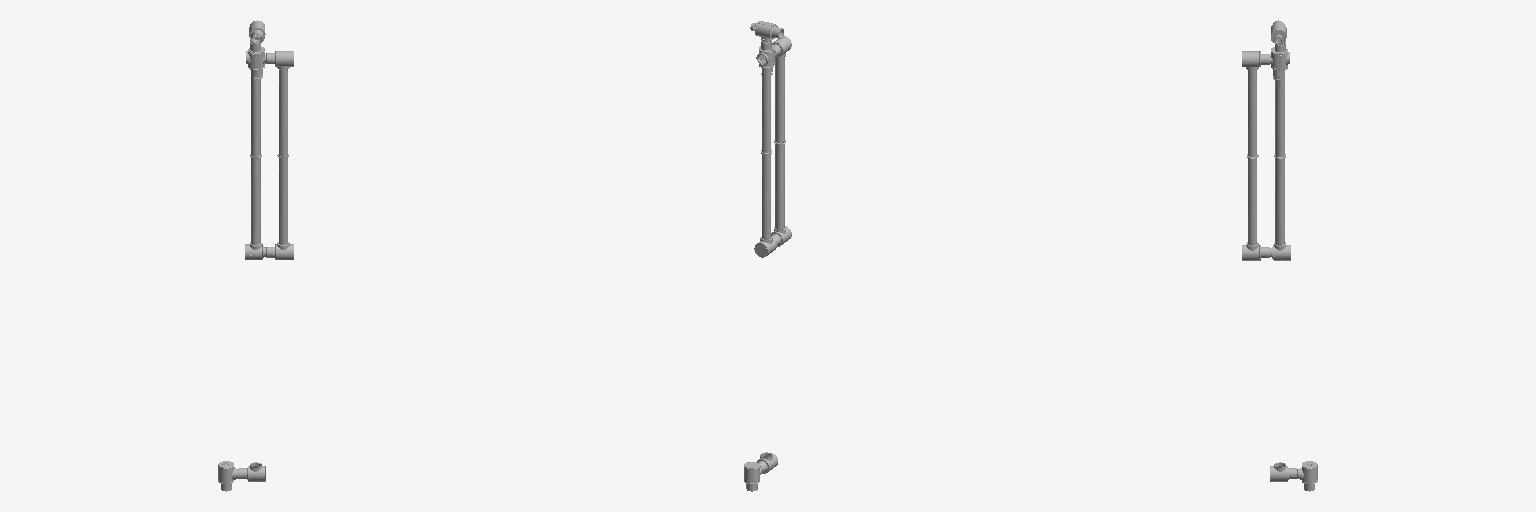
URDF robot description (urdf0):
<?xml version="1.0" encoding="utf-8"?>
<!-- This URDF was automatically created by SolidWorks to URDF Exporter! Originally created by Stephen Brawner ([email redacted]) 
     Commit Version: 1.6.0-4-g7f85cfe  Build Version: 1.6.7995.38578
     For more information, please see http://wiki.ros.org/sw_urdf_exporter -->
<robot
  name="urdf0">
  <link
    name="base_link">
    <!-- <inertial>
      <origin
        xyz="8.72986299132619E-06 0.000110535562543035 0.0443842390944278"
        rpy="0 0 0" />
      <mass
        value="5.02870680905452" />
      <inertia
        ixx="0.0167806415192983"
        ixy="2.58690759696259E-06"
        ixz="-9.70880165009334E-07"
        iyy="0.0168131920532754"
        iyz="-1.22930663997648E-05"
        izz="0.0284237575746704" />
    </inertial> -->
    <visual>
      <origin
        xyz="0 0 0"
        rpy="0 0 0" />
      <geometry>
        <mesh
          filename="package://urdf0/meshes/base_link.STL" />
      </geometry>
      <material
        name="">
        <color
          rgba="0.752941176470588 0.752941176470588 0.752941176470588 1" />
      </material>
    </visual>
    <collision>
      <origin
        xyz="0 0 0"
        rpy="0 0 0" />
      <geometry>
        <mesh
          filename="package://urdf0/meshes/base_link.STL" />
      </geometry>
    </collision>
  </link>
  <link
    name="link_1">
    <inertial>
      <origin
        xyz="-2.04097438563936E-05 0.011301551101616 0.0655223391033291"
        rpy="0 0 0" />
      <mass
        value="55.7444455513422" />
      <inertia
        ixx="0.727810823126991"
        ixy="-6.08303990712885E-06"
        ixz="-2.12903061832592E-07"
        iyy="0.927554282928872"
        iyz="0.0220552256243774"
        izz="1.04521065780087" />
    </inertial>
    <visual>
      <origin
        xyz="0 0 0"
        rpy="0 0 0" />
      <geometry>
        <mesh
          filename="package://urdf0/meshes/Link1.STL" />
      </geometry>
      <material
        name="">
        <color
          rgba="0.752941176470588 0.752941176470588 0.752941176470588 1" />
      </material>
    </visual>
    <collision>
      <origin
        xyz="0 0 0"
        rpy="0 0 0" />
      <geometry>
        <mesh
          filename="package://urdf0/meshes/Link1.STL" />
      </geometry>
    </collision>
  </link>
  <joint
    name="joint1"
    type="continuous">
    <origin
      xyz="0 0 0.3645"
      rpy="3.1416 0 0" />
    <parent
      link="base_link" />
    <child
      link="link_1" />
    <axis
      xyz="0 0 1" />
    <hardware id="0" type="driver">
            <limit lower="-0.0001" upper="0.0001"  vel="3.0" acc="10.0" jerk="150.0" effort="30.0"/>
            <transform ratio="1.0" offset_pos_cnt="0" cnt_per_unit="140184287.42160" torque_per_unit="1.0"
                       user_unit_name="rad"/>
             <inputs name="Inputs">
                <status_word>Statusword</status_word>
                <position_actual_value>Position actual value</position_actual_value>
                <velocity_actual_value>Velocity actual value</velocity_actual_value>
                <torque_actual_value>Torque actual value</torque_actual_value>
                <load_torque_value>Analog Input 1</load_torque_value>
                <secondary_position_value>Auxiliary position actual value</secondary_position_value>
                <secondary_velocity_value>Secondary velocity value</secondary_velocity_value>
            </inputs>
            <outputs name="Outputs">
                <control_word>Controlword</control_word>
                <mode_of_operation>Modes of operation</mode_of_operation>
                <target_position>Target position</target_position>
                <target_velocity>Target velocity</target_velocity>
                <target_torque>Target torque</target_torque>
            </outputs>        
        </hardware>
  </joint>
  <link
    name="link_2">
    <inertial>
      <origin
        xyz="1.2631017255465E-05 -0.00998695022675111 0.099695434986445"
        rpy="0 0 0" />
      <mass
        value="63.0188095750657" />
      <inertia
        ixx="0.765163850790187"
        ixy="4.97111083556097E-06"
        ixz="5.24185415367775E-06"
        iyy="0.964838451945914"
        iyz="-0.0220552256243779"
        izz="1.11446804310499" />
    </inertial>
    <visual>
      <origin
        xyz="0 0 0"
        rpy="0 0 0" />
      <geometry>
        <mesh
          filename="package://urdf0/meshes/Link2.STL" />
      </geometry>
      <material
        name="">
        <color
          rgba="0.752941176470588 0.752941176470588 0.752941176470588 1" />
      </material>
    </visual>
    <collision>
      <origin
        xyz="0 0 0"
        rpy="0 0 0" />
      <geometry>
        <mesh
          filename="package://urdf0/meshes/Link2.STL" />
      </geometry>
    </collision>
  </link>
  <joint
    name="joint2"
    type="continuous">
    <origin
      xyz="0 0.6115 0"
      rpy="1.5708 0 0" />
    <parent
      link="link_1" />
    <child
      link="link_2" />
    <axis
      xyz="0 0 1" />
    <hardware id="1" type="driver">
            <limit lower="-2.22" upper="2.22" vel="3.0" acc="10.0" jerk="150.0" effort="30.0" />
            <transform ratio="1.0" offset_pos_cnt="0" cnt_per_unit="140184287.42160" torque_per_unit="1.0" user_unit_name="rad"/>
            <inputs name="Inputs">
                <status_word>Statusword</status_word>
                <position_actual_value>Position actual value</position_actual_value>
                <velocity_actual_value>Velocity actual value</velocity_actual_value>
                <torque_actual_value>Torque actual value</torque_actual_value>
                <load_torque_value>Analog Input 1</load_torque_value>
                <secondary_position_value>Auxiliary position actual value</secondary_position_value>
                <secondary_velocity_value>Secondary velocity value</secondary_velocity_value>
            </inputs>
            <outputs name="Outputs">
                <control_word>Controlword</control_word>
                <mode_of_operation>Modes of operation</mode_of_operation>
                <target_position>Target position</target_position>
                <target_velocity>Target velocity</target_velocity>
                <target_torque>Target torque</target_torque>
            </outputs>  
        </hardware>
  </joint>
  <link
    name="link_3">
    <inertial>
      <origin
        xyz="7.95950088592247E-05 -0.00352653187066096 -2.49589544552404"
        rpy="0 0 0" />
      <mass
        value="212.870919787655" />
      <inertia
        ixx="27.5783375000673"
        ixy="0.00110729799537331"
        ixz="0.000240364566676525"
        iyy="28.0743279332976"
        iyz="9.78461217462477E-05"
        izz="2.97692676274956" />
    </inertial>
    <visual>
      <origin
        xyz="0 0 0"
        rpy="0 0 0" />
      <geometry>
        <mesh
          filename="package://urdf0/meshes/Link3.STL" />
      </geometry>
      <material
        name="">
        <color
          rgba="0.752941176470588 0.752941176470588 0.752941176470588 1" />
      </material>
    </visual>
    <collision>
      <origin
        xyz="0 0 0"
        rpy="0 0 0" />
      <geometry>
        <mesh
          filename="package://urdf0/meshes/Link3.STL" />
      </geometry>
    </collision>
  </link>
  <joint
    name="joint3"
    type="continuous">
    <origin
      xyz="0 -5.0815 0"
      rpy="1.5708 0 0" />
    <parent
      link="link_2" />
    <child
      link="link_3" />
    <axis
      xyz="0 0 -1" />
    <hardware id="2" type="driver">
            <limit lower="-0.0001" upper="0.0001" vel="3.0" acc="10.0" jerk="150.0" effort="30.0" />
            <transform ratio="1.0" offset_pos_cnt="0" cnt_per_unit="140184287.42160" torque_per_unit="1.0" user_unit_name="rad"/>
            <inputs name="Inputs">
                <status_word>Statusword</status_word>
                <position_actual_value>Position actual value</position_actual_value>
                <velocity_actual_value>Velocity actual value</velocity_actual_value>
                <torque_actual_value>Torque actual value</torque_actual_value>
                <load_torque_value>Analog Input 1</load_torque_value>
                <secondary_position_value>Auxiliary position actual value</secondary_position_value>
                <secondary_velocity_value>Secondary velocity value</secondary_velocity_value>
            </inputs>
            <outputs name="Outputs">
                <control_word>Controlword</control_word>
                <mode_of_operation>Modes of operation</mode_of_operation>
                <target_position>Target position</target_position>
                <target_velocity>Target velocity</target_velocity>
                <target_torque>Target torque</target_torque>
            </outputs>  
        </hardware>
  </joint>
  <link
    name="link_4">
    <inertial>
      <origin
        xyz="2.22 1.76550604566529E-13 -0.521128276464802"
        rpy="0 0 0" />
      <mass
        value="226.927653025662" />
      <inertia
        ixx="2.91047984976881"
        ixy="-9.94222168871076E-06"
        ixz="3.14603126799796E-15"
        iyy="27.6919474025717"
        iyz="1.15288419593986E-14"
        izz="28.3905557872013" />
    </inertial>
    <visual>
      <origin
        xyz="0 0 0"
        rpy="0 0 0" />
      <geometry>
        <mesh
          filename="package://urdf0/meshes/Link4.STL" />
      </geometry>
      <material
        name="">
        <color
          rgba="0.752941176470588 0.752941176470588 0.752941176470588 1" />
      </material>
    </visual>
    <collision>
      <origin
        xyz="0 0 0"
        rpy="0 0 0" />
      <geometry>
        <mesh
          filename="package://urdf0/meshes/Link4.STL" />
      </geometry>
    </collision>
  </link>
  <joint
    name="joint4"
    type="continuous">
    <origin
      xyz="0 0 0"
      rpy="1.5708 -1.5708 0" />
    <parent
      link="link_3" />
    <child
      link="link_4" />
    <axis
      xyz="0 0 1" />
    <hardware id="3" type="driver">
            <limit lower="-2.23" upper="2.23" vel="3.0" acc="10.0" jerk="150.0" effort="30.0" />
            <transform ratio="1.0" offset_pos_cnt="0" cnt_per_unit="140184287.42160" torque_per_unit="1.0" user_unit_name="rad"/>
            <inputs name="Inputs">
                <status_word>Statusword</status_word>
                <position_actual_value>Position actual value</position_actual_value>
                <velocity_actual_value>Velocity actual value</velocity_actual_value>
                <torque_actual_value>Torque actual value</torque_actual_value>
                <load_torque_value>Analog Input 1</load_torque_value>
                <secondary_position_value>Auxiliary position actual value</secondary_position_value>
                <secondary_velocity_value>Secondary velocity value</secondary_velocity_value>
            </inputs>
            <outputs name="Outputs">
                <control_word>Controlword</control_word>
                <mode_of_operation>Modes of operation</mode_of_operation>
                <target_position>Target position</target_position>
                <target_velocity>Target velocity</target_velocity>
                <target_torque>Target torque</target_torque>
            </outputs>  
        </hardware>
  </joint>
  <link
    name="link_5">
    <inertial>
      <origin
        xyz="-1.26310178133507E-05 0.0996954349864509 -0.00998695022675433"
        rpy="0 0 0" />
      <mass
        value="63.0188095750638" />
      <inertia
        ixx="0.765163850790159"
        ixy="-5.24185412364793E-06"
        ixz="-4.97111085848088E-06"
        iyy="1.11446804310497"
        iyz="-0.0220552256243783"
        izz="0.964838451945891" />
    </inertial>
    <visual>
      <origin
        xyz="0 0 0"
        rpy="0 0 0" />
      <geometry>
        <mesh
          filename="package://urdf0/meshes/Link5.STL" />
      </geometry>
      <material
        name="">
        <color
          rgba="0.752941176470588 0.752941176470588 0.752941176470588 1" />
      </material>
    </visual>
    <collision>
      <origin
        xyz="0 0 0"
        rpy="0 0 0" />
      <geometry>
        <mesh
          filename="package://urdf0/meshes/Link5.STL" />
      </geometry>
    </collision>
  </link>
  <joint
    name="joint5"
    type="continuous">
    <origin
      xyz="4.44 0 0.035"
      rpy="0 0 -1.5708" />
    <parent
      link="link_4" />
    <child
      link="link_5" />
    <axis
      xyz="0 0 1" />
    <hardware id="4" type="driver">
            <limit lower="-2.71" upper="2.71" vel="3.0" acc="10.0" jerk="150.0" effort="30.0" />
            <transform ratio="1.0" offset_pos_cnt="0" cnt_per_unit="140184287.42160" torque_per_unit="1.0" user_unit_name="rad"/>
            <inputs name="Inputs">
                <status_word>Statusword</status_word>
                <position_actual_value>Position actual value</position_actual_value>
                <velocity_actual_value>Velocity actual value</velocity_actual_value>
                <torque_actual_value>Torque actual value</torque_actual_value>
                <load_torque_value>Analog Input 1</load_torque_value>
                <secondary_position_value>Auxiliary position actual value</secondary_position_value>
                <secondary_velocity_value>Secondary velocity value</secondary_velocity_value>
            </inputs>
            <outputs name="Outputs">
                <control_word>Controlword</control_word>
                <mode_of_operation>Modes of operation</mode_of_operation>
                <target_position>Target position</target_position>
                <target_velocity>Target velocity</target_velocity>
                <target_torque>Target torque</target_torque>
            </outputs>  
        </hardware>
  </joint>
  <link
    name="link_6">
    <inertial>
      <origin
        xyz="2.04097449541529E-05 -0.0655223391029839 -0.0113015511016092"
        rpy="0 0 0" />
      <mass
        value="55.7444455513433" />
      <inertia
        ixx="0.727810823126995"
        ixy="-2.12903042217403E-07"
        ixz="-6.08303989137093E-06"
        iyy="1.04521065780089"
        iyz="0.0220552256243767"
        izz="0.927554282928868" />
    </inertial>
    <visual>
      <origin
        xyz="0 0 0"
        rpy="0 0 0" />
      <geometry>
        <mesh
          filename="package://urdf0/meshes/Link6.STL" />
      </geometry>
      <material
        name="">
        <color
          rgba="0.752941176470588 0.752941176470588 0.752941176470588 1" />
      </material>
    </visual>
    <collision>
      <origin
        xyz="0 0 0"
        rpy="0 0 0" />
      <geometry>
        <mesh
          filename="package://urdf0/meshes/Link6.STL" />
      </geometry>
    </collision>
  </link>
  <joint
    name="joint6"
    type="continuous">
    <origin
      xyz="0 0.6115 0"
      rpy="-1.5708 1.5708 0" />
    <parent
      link="link_5" />
    <child
      link="link_6" />
    <axis
      xyz="0 0 1" />
    <hardware id="5" type="driver">
            <limit lower="-0.0001" upper="0.0001" vel="3.0" acc="10.0" jerk="150.0" effort="30.0" />
            <transform ratio="1.0" offset_pos_cnt="0" cnt_per_unit="140184287.42160" torque_per_unit="1.0" user_unit_name="rad"/>
            <inputs name="Inputs">
                <status_word>Statusword</status_word>
                <position_actual_value>Position actual value</position_actual_value>
                <velocity_actual_value>Velocity actual value</velocity_actual_value>
                <torque_actual_value>Torque actual value</torque_actual_value>
                <load_torque_value>Analog Input 1</load_torque_value>
                <secondary_position_value>Auxiliary position actual value</secondary_position_value>
                <secondary_velocity_value>Secondary velocity value</secondary_velocity_value>
            </inputs>
            <outputs name="Outputs">
                <control_word>Controlword</control_word>
                <mode_of_operation>Modes of operation</mode_of_operation>
                <target_position>Target position</target_position>
                <target_velocity>Target velocity</target_velocity>
                <target_torque>Target torque</target_torque>
            </outputs>  
        </hardware>
  </joint>
  <link
    name="link_7">
    <inertial>
      <origin
        xyz="-6.2551368357866E-05 9.15513375767674E-05 -0.0443842390944282"
        rpy="0 0 0" />
      <mass
        value="5.02870680905465" />
      <inertia
        ixx="0.0167909264766882"
        ixy="-1.5352283132167E-05"
        ixz="-6.95656770372791E-06"
        iyy="0.0168029070958863"
        iyz="1.01817609272676E-05"
        izz="0.028423757574671" />
    </inertial>
    <visual>
      <origin
        xyz="0 0 0"
        rpy="0 0 0" />
      <geometry>
        <mesh
          filename="package://urdf0/meshes/Link7.STL" />
      </geometry>
      <material
        name="">
        <color
          rgba="0.752941176470588 0.752941176470588 0.752941176470588 1" />
      </material>
    </visual>
    <collision>
      <origin
        xyz="0 0 0"
        rpy="0 0 0" />
      <geometry>
        <mesh
          filename="package://urdf0/meshes/Link7.STL" />
      </geometry>
    </collision>
  </link>
  <joint
    name="joint7"
    type="continuous">
    <origin
      xyz="0 -0.3645 0"
      rpy="1.5708 0 0" />
    <parent
      link="link_6" />
    <child
      link="link_7" />
    <axis
      xyz="0 0 1" />
    <hardware id="6" type="driver">
            <limit lower="-2.84" upper="2.84" vel="3.0" acc="10.0" jerk="150.0" effort="30.0" />
            <transform ratio="1.0" offset_pos_cnt="0" cnt_per_unit="140184287.42160" torque_per_unit="1.0" user_unit_name="rad"/>
            <inputs name="Inputs">
                <status_word>Statusword</status_word>
                <position_actual_value>Position actual value</position_actual_value>
                <velocity_actual_value>Velocity actual value</velocity_actual_value>
                <torque_actual_value>Torque actual value</torque_actual_value>
                <load_torque_value>Analog Input 1</load_torque_value>
                <secondary_position_value>Auxiliary position actual value</secondary_position_value>
                <secondary_velocity_value>Secondary velocity value</secondary_velocity_value>
            </inputs>
            <outputs name="Outputs">
                <control_word>Controlword</control_word>
                <mode_of_operation>Modes of operation</mode_of_operation>
                <target_position>Target position</target_position>
                <target_velocity>Target velocity</target_velocity>
                <target_torque>Target torque</target_torque>
            </outputs>  
        </hardware>
  </joint>
</robot>

--- Facts derived from the render (not from the file) ---
The picture shows the robot from 3 angles, left to right: view 1: azimuth 90°, elevation 25°; view 2: azimuth 150°, elevation 25°; view 3: azimuth 270°, elevation 25°; orthographic projection.
Robot: urdf0 — 8 links, 7 joints (7 continuous); root link base_link; default pose: every joint at zero.
Visible links, largest first — view 1: link_4, link_3; view 2: link_4, link_3; view 3: link_4, link_3.
Boxes of the visible links, <box> form: link_4: <box>263,51,293,259</box>; link_3: <box>245,37,262,259</box>; link_4: <box>771,36,791,246</box>; link_3: <box>754,38,776,257</box>; link_4: <box>1242,51,1272,260</box>; link_3: <box>1273,41,1290,260</box>.
Bounding box of the posed robot: 0.718 × 1.57 × 10.65 m (x, y, z).
8 mesh visuals loaded from 8 distinct referenced files (8 binary STL).
